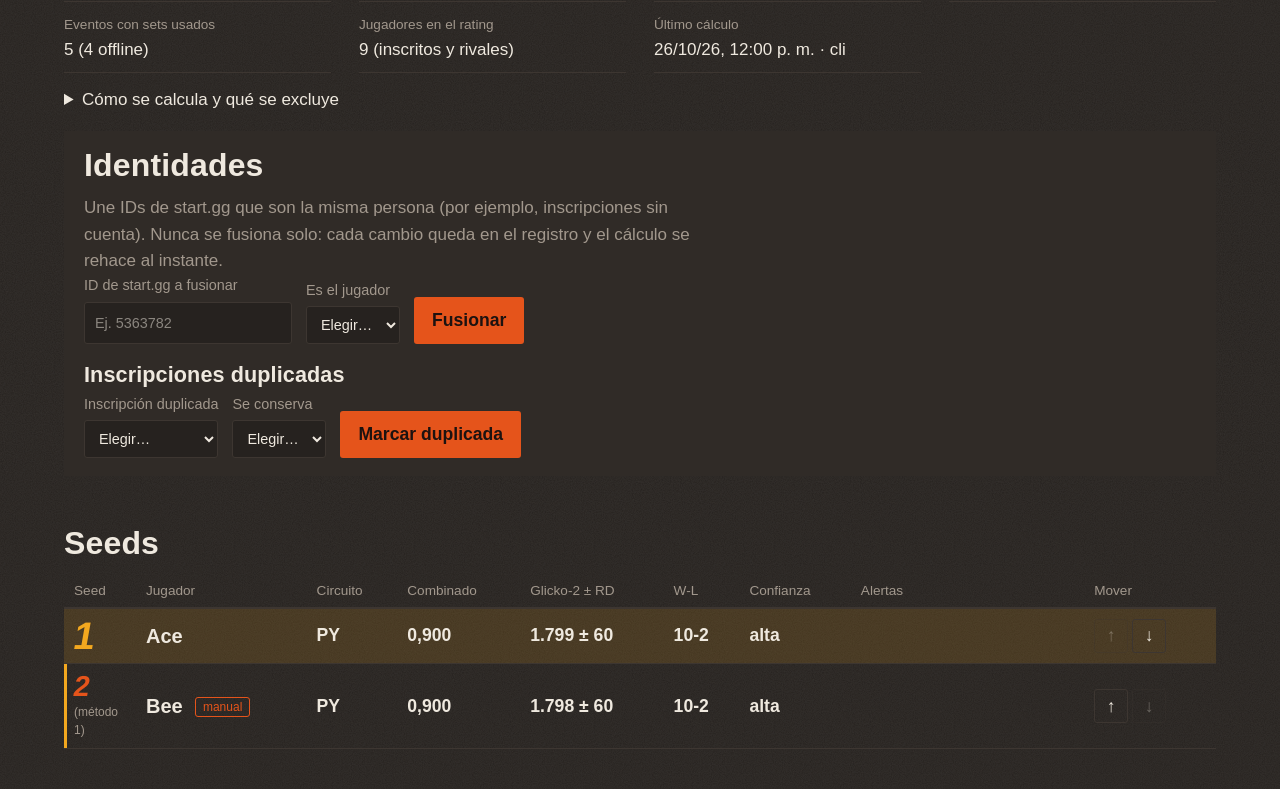
Scenario: seeding board › shows data window, explanations and manual adjustments
(page scrolled)
Expected: the text "(método 1)" is shown, [74,705,118,738]
Click the button "Bee" at x=164, y=706, box [146,691,183,722]
(page scrolled)
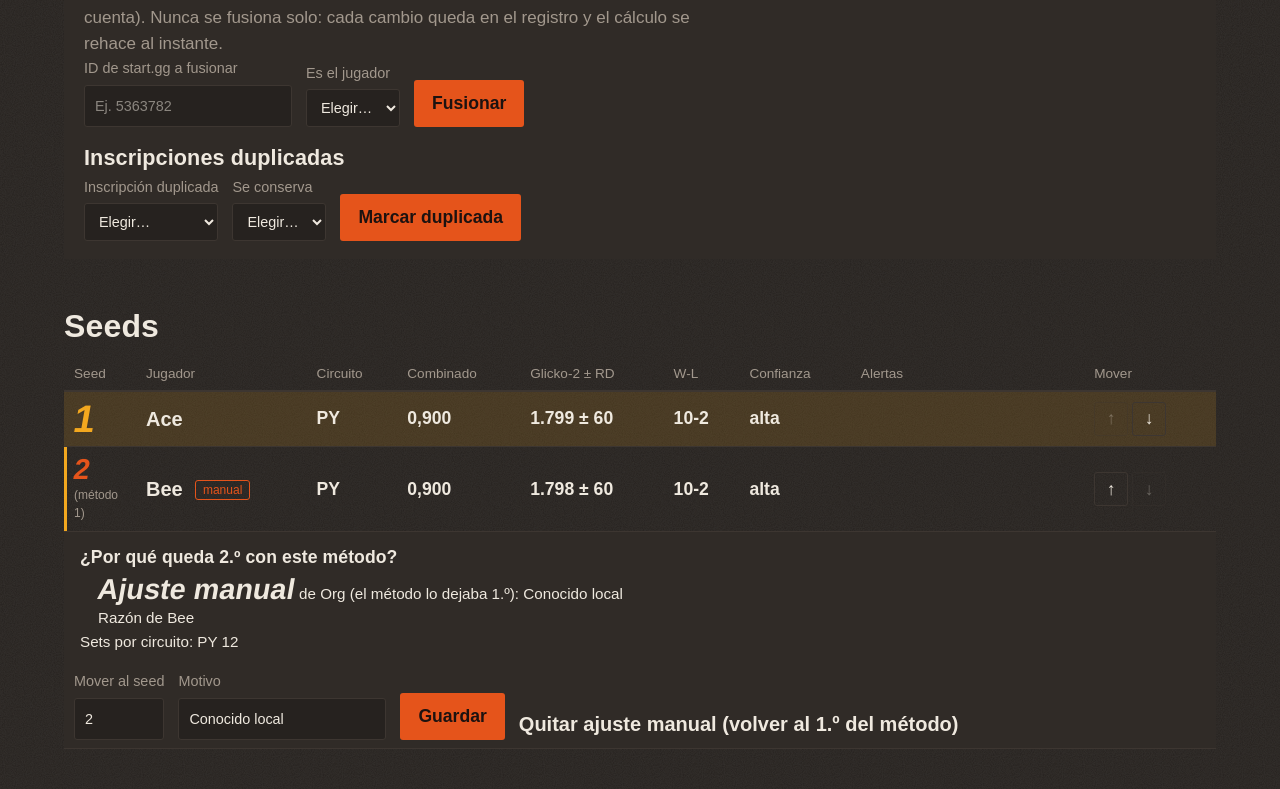
Expected: the list item "Razón de Bee" is shown, [98,609,194,626]
Expected: the list item "Conocido local" is shown, [523,584,623,602]
